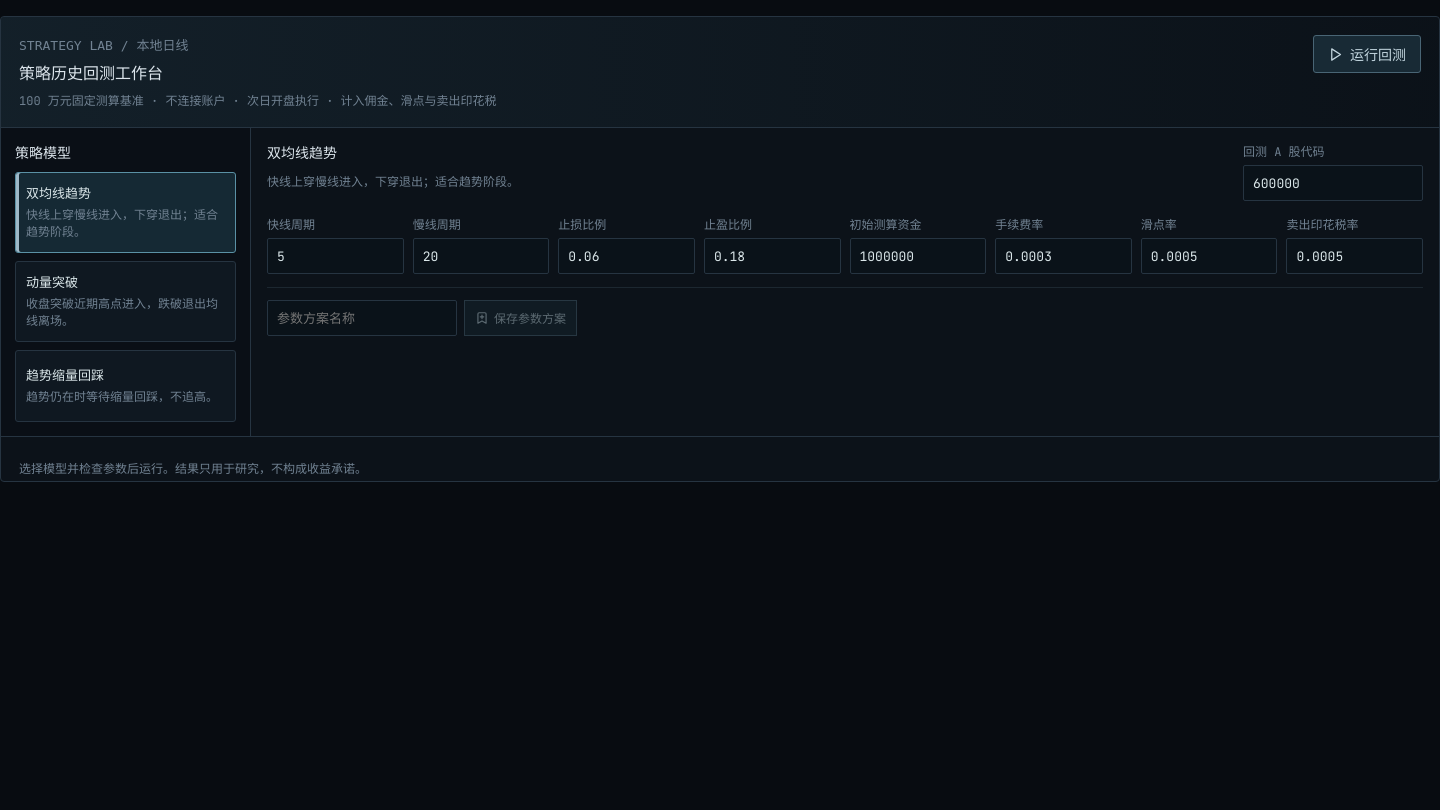
BacktestPanel › runs a selected strategy with editable parameters
The image size is (1440, 810).
Click the button "动量突破 收盘突破近期高点进入，跌破退出均线离场。": (126, 301) [15,261,236,342]
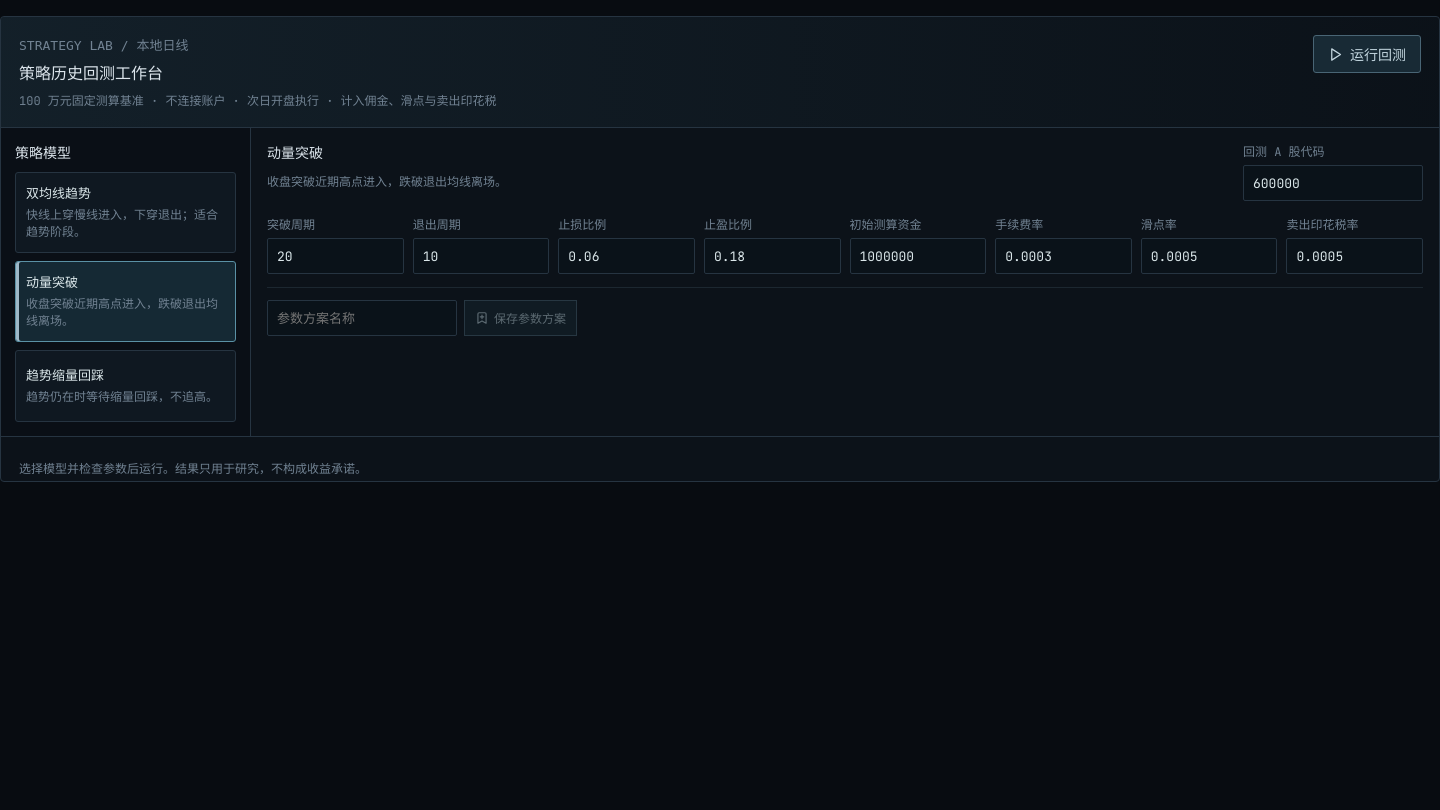
Replace the text in the number field labelled "突破周期" with "30": (335, 256) [267,238,404,274]
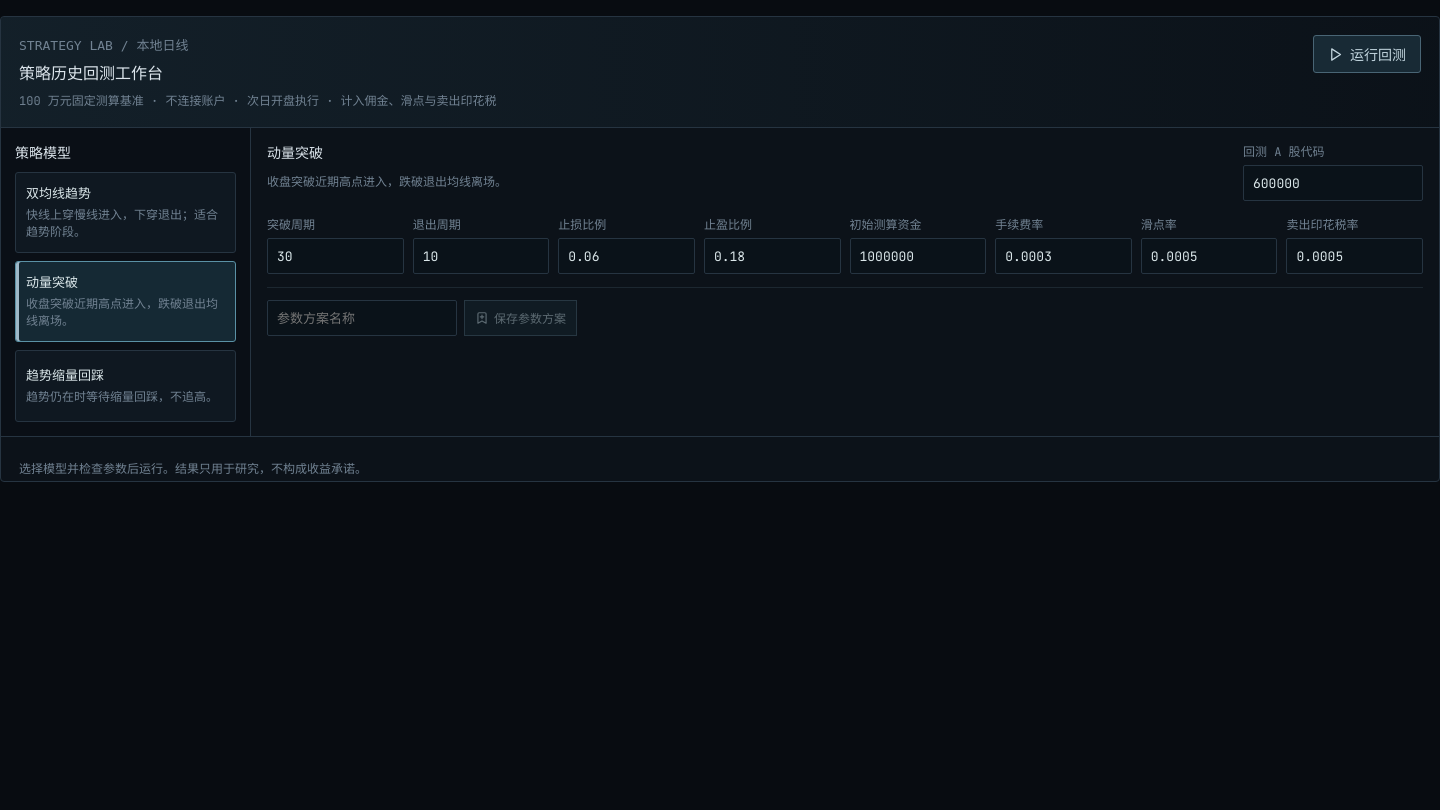
Click the button "运行回测": (1367, 54) [1313,35,1421,73]
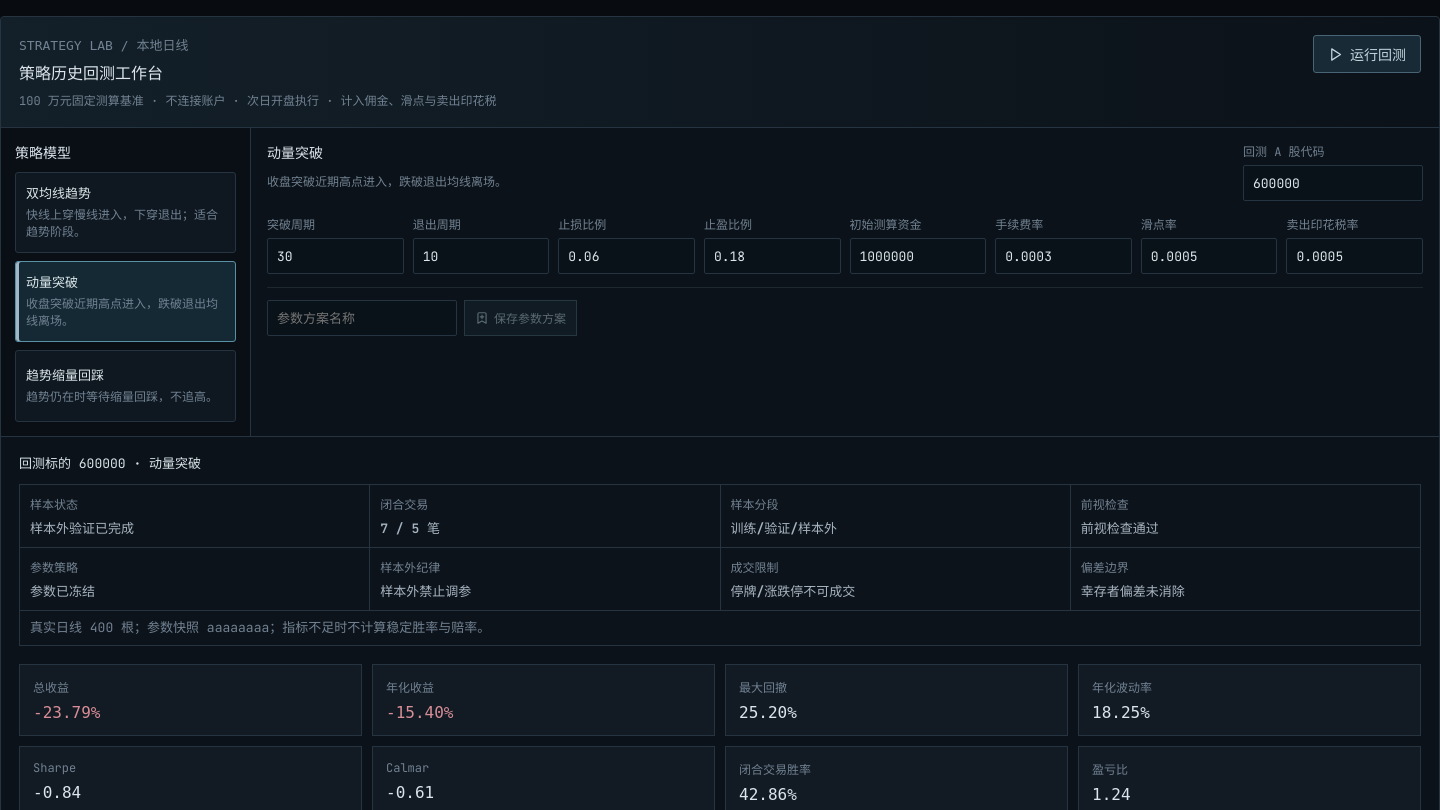
Check: the text "回测标的 600000" is shown, box [19,455,126,472]
